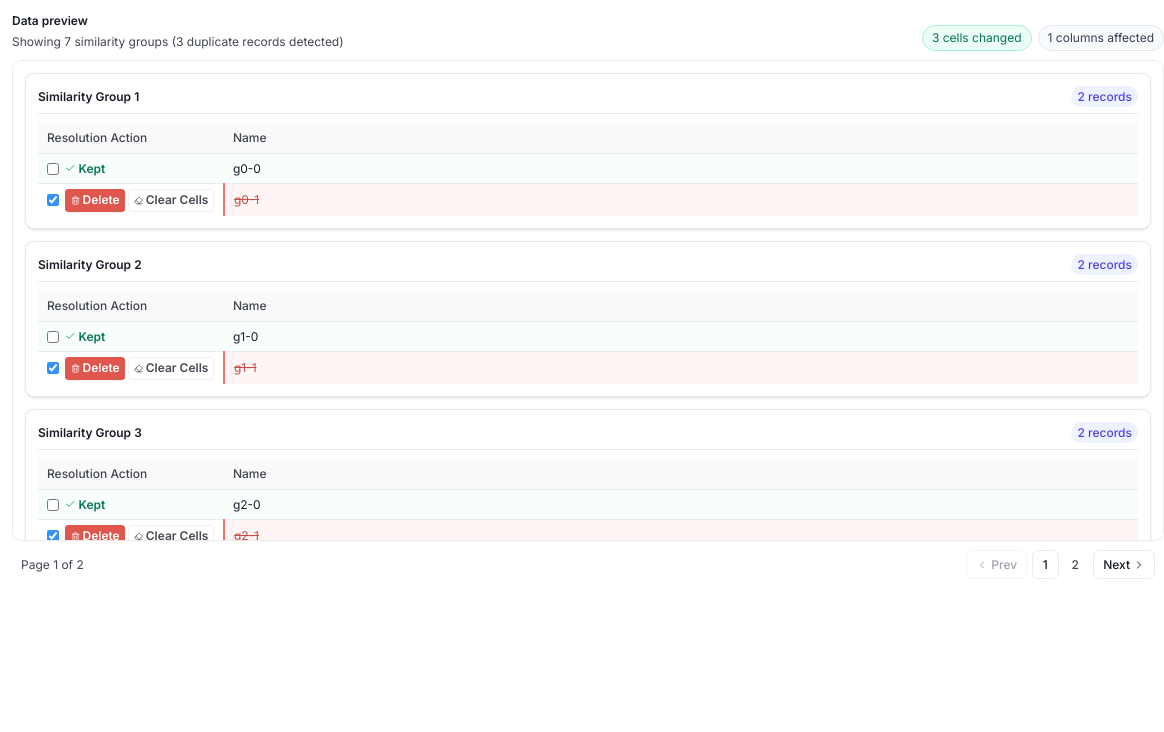
Test case: GridDataOperationPreviewGrid fuzzy deduplication view › paginates groups
expect the text "Similarity Group 6" is not shown: met
Click the button "Next" at (1124, 564), box [1093,550,1155,579]
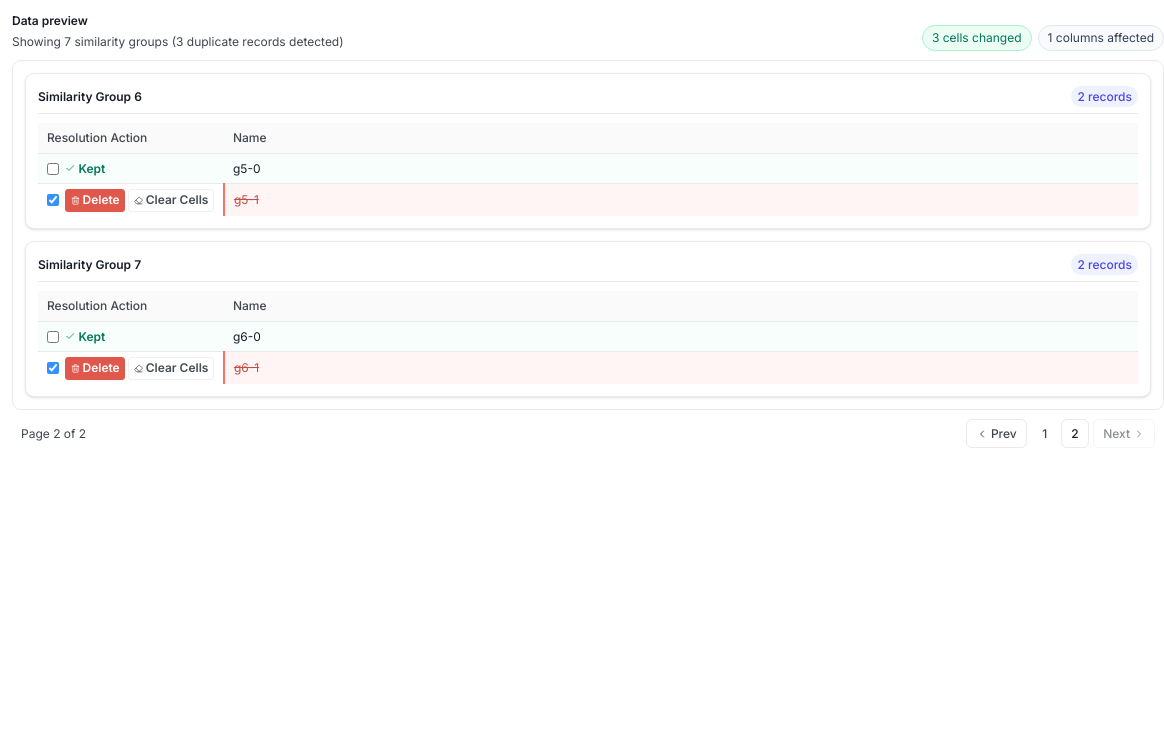
expect the text "Similarity Group 6" is shown: met, box [38,88,142,106]
